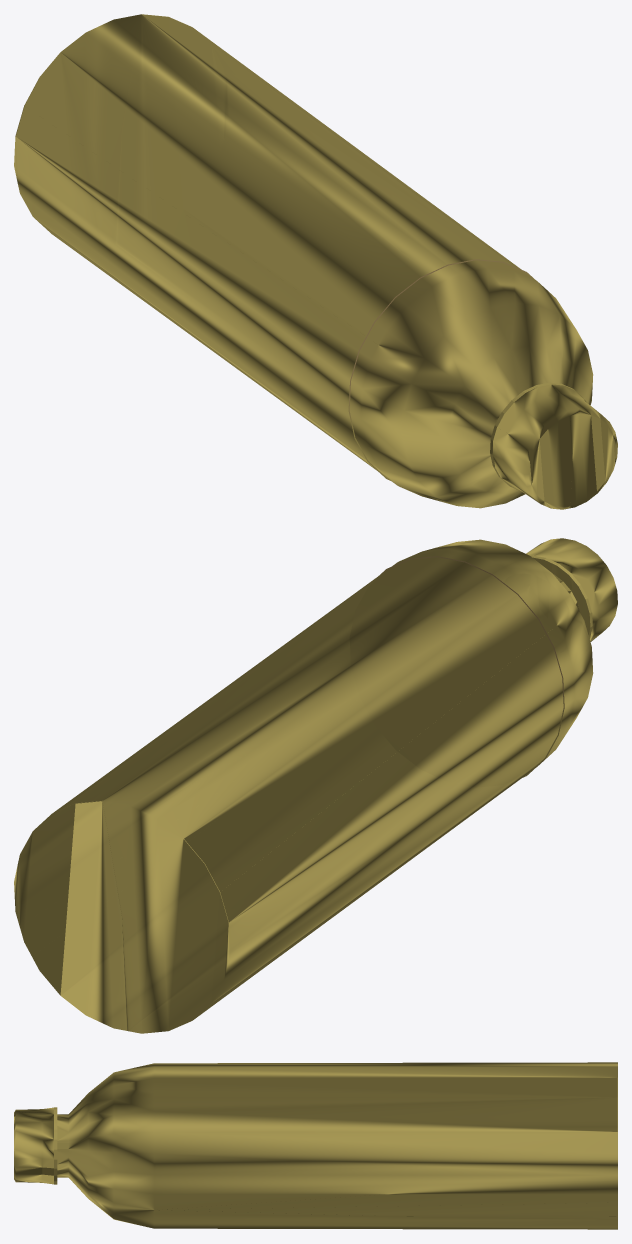
File: model_align.obj
The picture shows the model from 3 angles, top to bottom: view 1: azimuth 30°, elevation 25°; view 2: azimuth 150°, elevation 25°; view 3: azimuth 270°, elevation 25°; orthographic projection. The views are drawn at different scales.
Bounding box in the file's own units: 0.0686 × 0.0686 × 0.2476.
